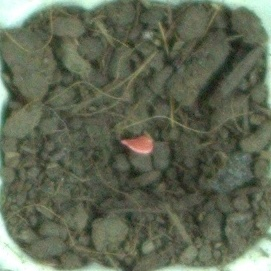pepper seed: (40, 53, 196, 210)
